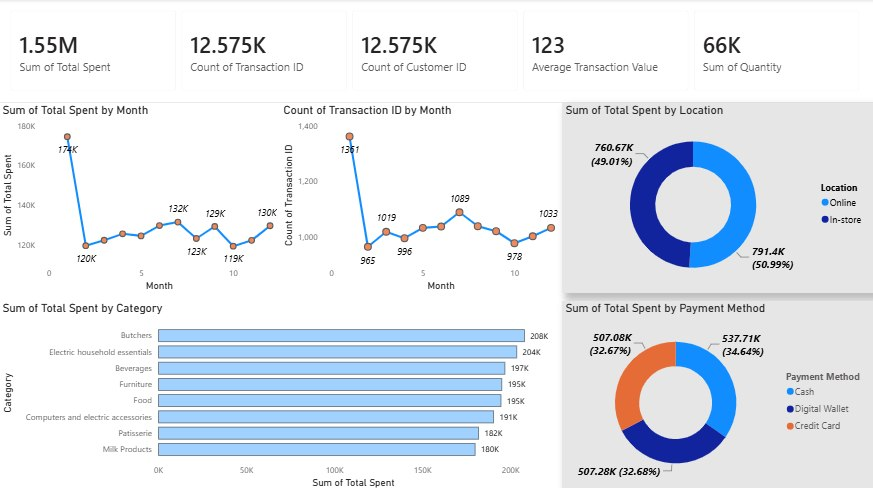

The dashboard page shown, as its layout file describes it:
{"tool":"powerbi","page":{"name":"Executive Overview","canvas":[1280,720],"ordinal":0},"visuals":[{"type":"cardVisual","fields":{"Data":["Sum(Retail.Total Spent)","CountNonNull(Retail.Transaction ID)","CountNonNull(Retail.Customer ID)","Retail.Average Transaction Value","Sum(Retail.Quantity)"]},"box":[0,0,1280,151.7],"z":0},{"type":"lineChart","fields":{"Category":["Retail.Month"],"Y":["Sum(Retail.Total Spent)"]},"box":[0,151.7,411.7,280],"z":1000},{"type":"lineChart","fields":{"Category":["Retail.Month"],"Y":["CountNonNull(Retail.Transaction ID)"]},"box":[411.7,151.7,411.7,280],"z":2000},{"type":"barChart","fields":{"Category":["Retail.Category"],"Y":["Sum(Retail.Total Spent)"]},"box":[0,441.7,823.3,278.3],"z":3000},{"type":"donutChart","fields":{"Category":["Retail.Location"],"Y":["Sum(Retail.Total Spent)"]},"box":[823.3,151.7,456.7,278.3],"z":4000},{"type":"donutChart","fields":{"Y":["Sum(Retail.Total Spent)"],"Category":["Retail.Payment Method"]},"box":[823.3,441.7,456.7,278.3],"z":5000}]}

Visuals, with their boxes in screenshot pixels (x1, y1, x2, y2), scaled from the page's 1280x720 canvas onto the 873x488 screenshot:
cardVisual - Sum(Retail.Total Spent) x CountNonNull(Retail.Transaction ID): x1=0, y1=0, x2=872, y2=103
lineChart - Retail.Month x Sum(Retail.Total Spent): x1=0, y1=103, x2=281, y2=293
lineChart - Retail.Month x CountNonNull(Retail.Transaction ID): x1=281, y1=103, x2=562, y2=293
barChart - Retail.Category x Sum(Retail.Total Spent): x1=0, y1=299, x2=562, y2=487
donutChart - Retail.Location x Sum(Retail.Total Spent): x1=562, y1=103, x2=872, y2=291
donutChart - Sum(Retail.Total Spent) x Retail.Payment Method: x1=562, y1=299, x2=872, y2=487
